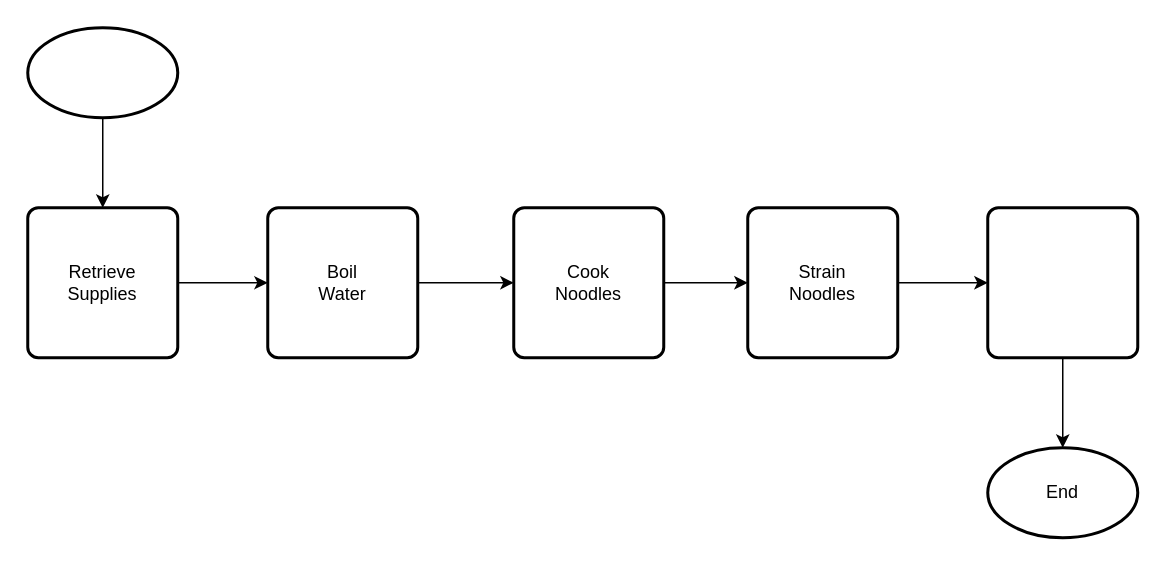
The diagram is 1164 pixels wide and 564 high, and some of its shapes have lost their labels. Each missing label, with the centre of its shape:
Add Ingredients: point 1062,282
Start: point 102,72
